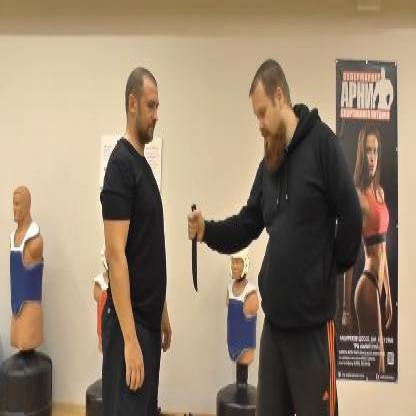knife: (184, 197, 200, 294)
